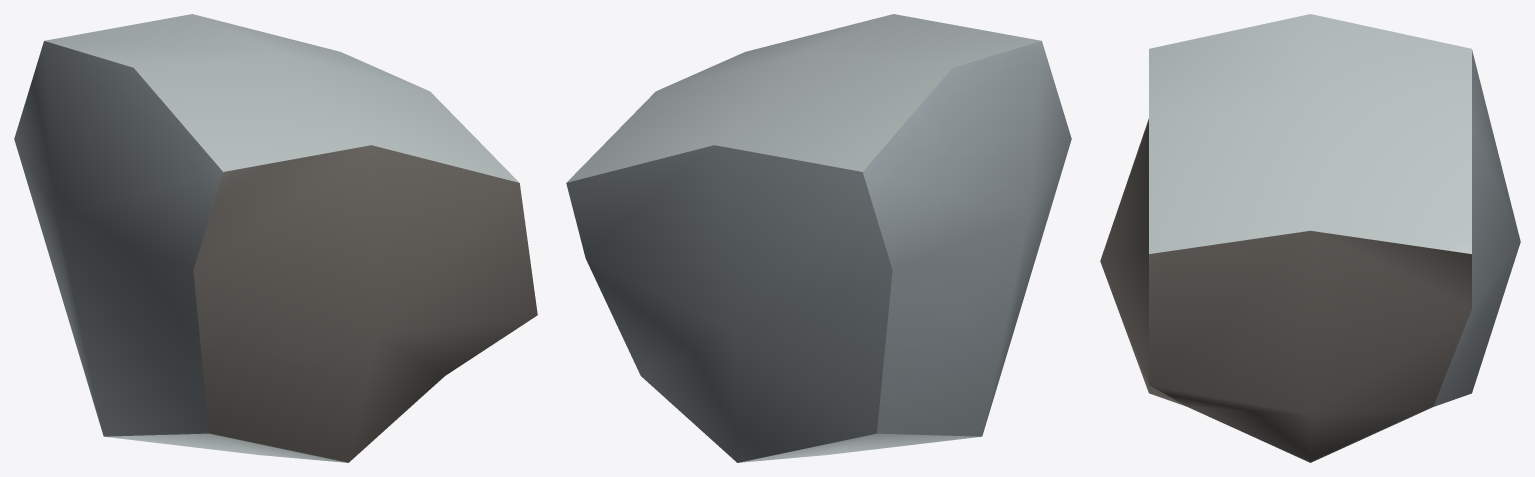
Rendered from stone_03.fbx.
The picture shows the model from 3 angles, left to right: view 1: azimuth 30°, elevation 25°; view 2: azimuth 150°, elevation 25°; view 3: azimuth 270°, elevation 25°; orthographic projection. The views are drawn at different scales.
Visible parts, largest first — view 1: pCube1; view 2: pCube1; view 3: pCube1.
Part boxes in pixels (<box>): pCube1: <box>14,14,537,462</box>; pCube1: <box>566,14,1071,462</box>; pCube1: <box>1100,14,1520,462</box>.
Size of the model in its own units: 1.3 by 1.29 by 1.3.
